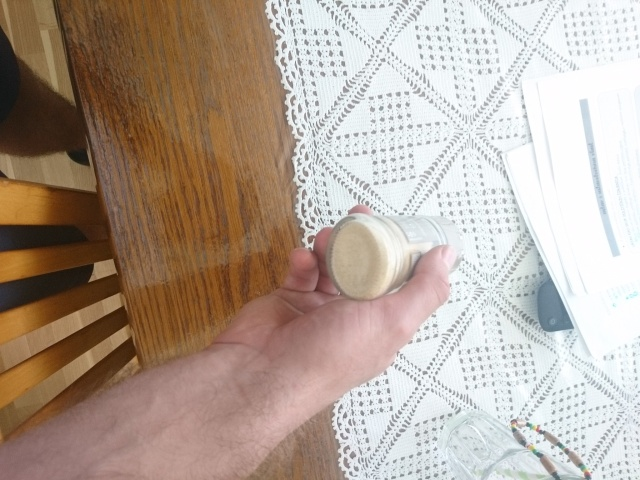Kotanyi Garlic Granules 70g: (321, 210, 465, 304)
